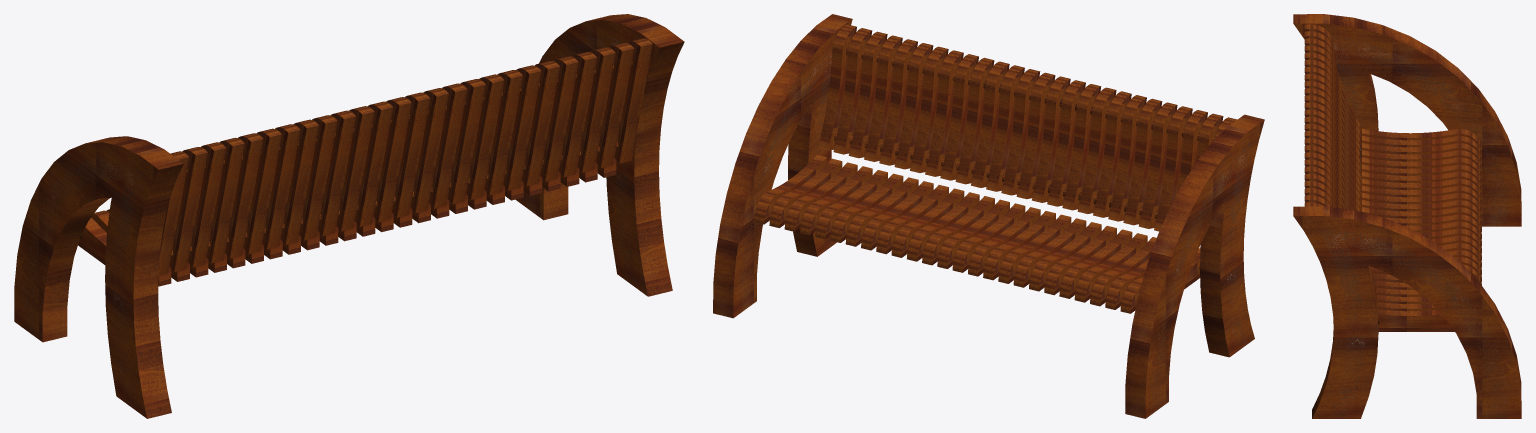
3 renders of one model, left to right at view 1: azimuth 30°, elevation 25°; view 2: azimuth 150°, elevation 25°; view 3: azimuth 270°, elevation 25°, orthographic. The views are drawn at different scales.
Parts seen in each view (by area): view 1: mesh52_mesh52-geometry, mesh1_mesh1-geometry, mesh29_mesh29-geometry, mesh42_mesh42-geometry, mesh27_mesh27-geometry, mesh31_mesh31-geometry, mesh48_mesh48-geometry, mesh33_mesh33-geometry, mesh37_mesh37-geometry, mesh50_mesh50-geometry, mesh38_mesh38-geometry, mesh45_mesh45-geometry (+16 smaller); view 2: mesh52_mesh52-geometry, mesh1_mesh1-geometry, mesh29_mesh29-geometry, mesh41_mesh41-geometry, mesh48_mesh48-geometry, mesh28_mesh28-geometry, mesh37_mesh37-geometry, mesh47_mesh47-geometry, mesh32_mesh32-geometry, mesh35_mesh35-geometry, mesh36_mesh36-geometry, mesh42_mesh42-geometry (+40 smaller); view 3: mesh1_mesh1-geometry, mesh52_mesh52-geometry, mesh4_mesh4-geometry, mesh7_mesh7-geometry, mesh3_mesh3-geometry, mesh15_mesh15-geometry, mesh6_mesh6-geometry, mesh26_mesh26-geometry, mesh2_mesh2-geometry, mesh18_mesh18-geometry, mesh12_mesh12-geometry, mesh20_mesh20-geometry (+35 smaller).
Part boxes in pixels (bbox=[...]): mesh52_mesh52-geometry: bbox=[14, 136, 183, 418]; mesh1_mesh1-geometry: bbox=[516, 14, 684, 296]; mesh29_mesh29-geometry: bbox=[158, 38, 652, 275]; mesh42_mesh42-geometry: bbox=[355, 101, 393, 226]; mesh27_mesh27-geometry: bbox=[336, 106, 374, 231]; mesh31_mesh31-geometry: bbox=[299, 115, 337, 240]; mesh48_mesh48-geometry: bbox=[392, 92, 430, 217]; mesh33_mesh33-geometry: bbox=[373, 97, 411, 222]; mesh37_mesh37-geometry: bbox=[318, 110, 355, 235]; mesh50_mesh50-geometry: bbox=[281, 119, 318, 245]; mesh38_mesh38-geometry: bbox=[596, 42, 634, 168]; mesh45_mesh45-geometry: bbox=[262, 124, 300, 249]; mesh52_mesh52-geometry: bbox=[1125, 114, 1264, 418]; mesh1_mesh1-geometry: bbox=[713, 14, 852, 318]; mesh29_mesh29-geometry: bbox=[818, 24, 1237, 219]; mesh41_mesh41-geometry: bbox=[955, 57, 994, 184]; mesh48_mesh48-geometry: bbox=[1001, 69, 1040, 195]; mesh28_mesh28-geometry: bbox=[1123, 98, 1162, 225]; mesh37_mesh37-geometry: bbox=[1062, 84, 1101, 210]; mesh47_mesh47-geometry: bbox=[940, 54, 978, 180]; mesh32_mesh32-geometry: bbox=[1138, 102, 1177, 228]; mesh35_mesh35-geometry: bbox=[864, 35, 902, 161]; mesh36_mesh36-geometry: bbox=[894, 43, 933, 169]; mesh42_mesh42-geometry: bbox=[1032, 76, 1070, 202]; mesh1_mesh1-geometry: bbox=[1293, 206, 1521, 418]; mesh52_mesh52-geometry: bbox=[1293, 14, 1521, 226]; mesh4_mesh4-geometry: bbox=[1362, 128, 1481, 331]; mesh7_mesh7-geometry: bbox=[1362, 157, 1481, 181]; mesh3_mesh3-geometry: bbox=[1362, 164, 1481, 188]; mesh15_mesh15-geometry: bbox=[1362, 150, 1481, 174]; mesh6_mesh6-geometry: bbox=[1362, 185, 1481, 210]; mesh26_mesh26-geometry: bbox=[1362, 136, 1481, 160]; mesh2_mesh2-geometry: bbox=[1362, 200, 1481, 224]; mesh18_mesh18-geometry: bbox=[1362, 143, 1481, 167]; mesh12_mesh12-geometry: bbox=[1362, 193, 1481, 217]; mesh20_mesh20-geometry: bbox=[1362, 171, 1481, 196].
Size of the model in its own units: 0.8308 by 0.3899 by 0.3971.
